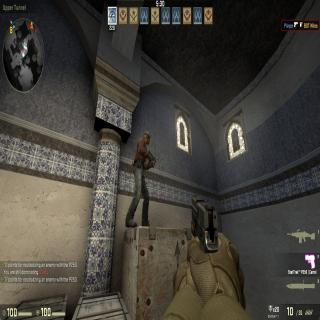T-Body: (132, 130, 152, 229)
T-Head: (142, 130, 151, 144)
